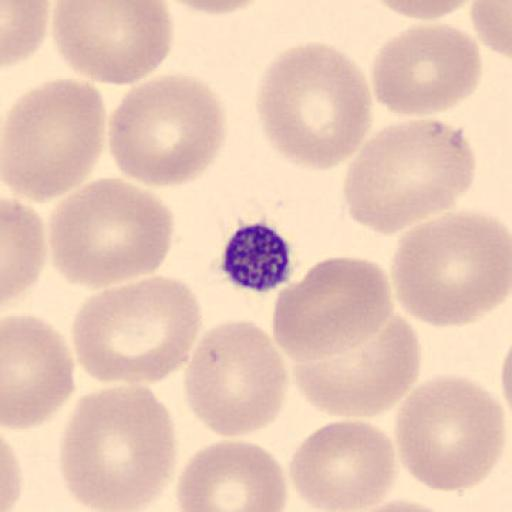Platelet: (218, 218, 295, 294)
RBC: (342, 118, 480, 236), (253, 40, 374, 172), (57, 382, 179, 512), (70, 273, 204, 386), (389, 207, 512, 329), (46, 176, 176, 290), (392, 372, 508, 494), (108, 72, 228, 189), (291, 312, 422, 419), (272, 254, 395, 364), (182, 317, 290, 439), (2, 76, 106, 202), (370, 21, 484, 119), (49, 0, 174, 86), (288, 417, 399, 512), (2, 311, 76, 431), (174, 438, 288, 512), (1, 196, 47, 308), (2, 0, 52, 69), (469, 1, 512, 60), (364, 0, 478, 21), (342, 496, 462, 512), (161, 0, 269, 17), (0, 434, 23, 512), (499, 340, 512, 422)
